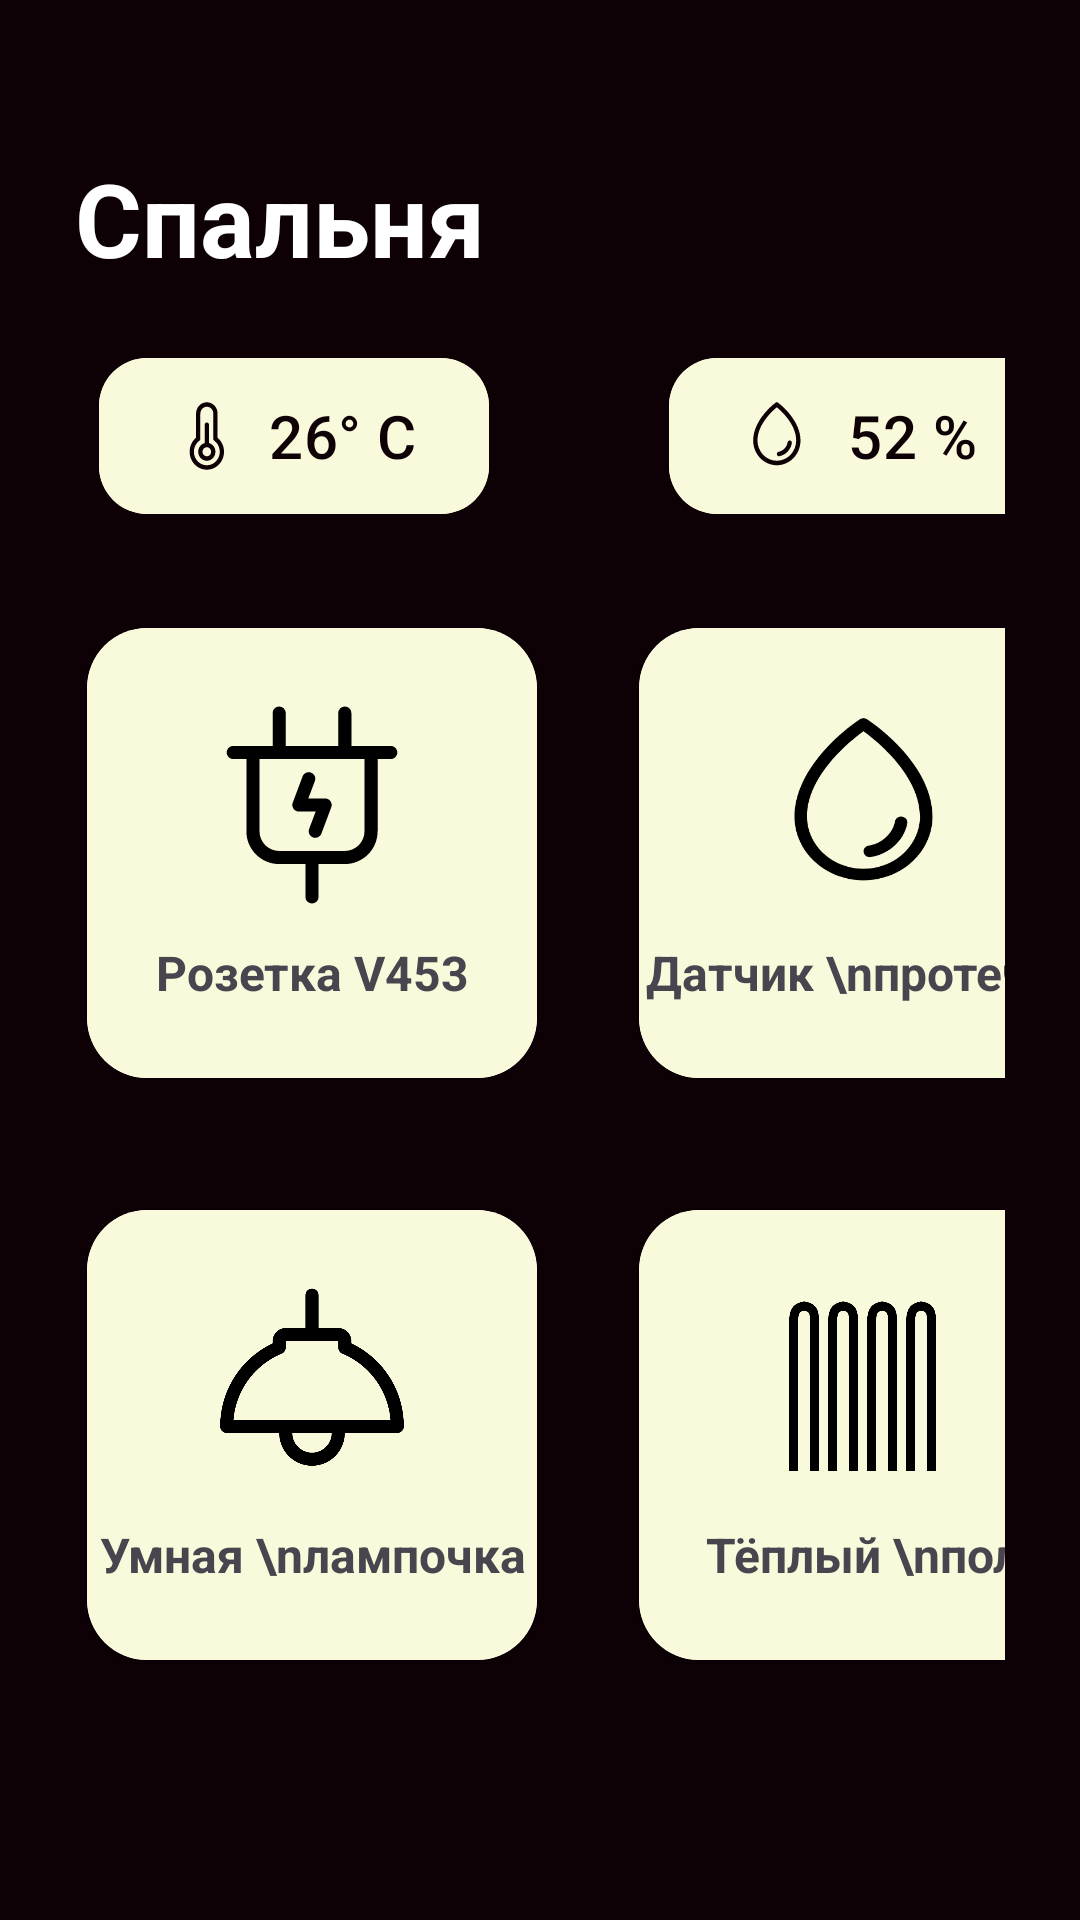

Locate icon controls on the screen. Image size 1080 × 1920, boxes as (x1, y1, x2, y2).
drop: (794, 718, 933, 881)
lamppendant: (220, 1288, 404, 1466)
plugcharging: (226, 706, 398, 904)
